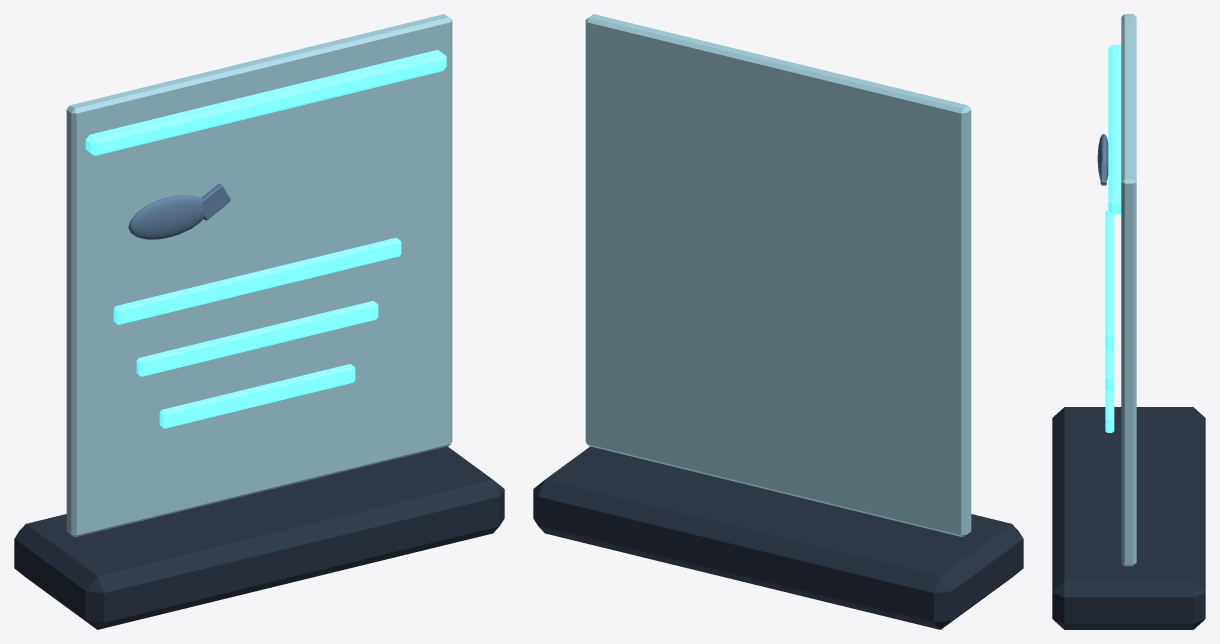
File: decor_12.glb
The picture shows the model from 3 angles, left to right: view 1: azimuth 30°, elevation 25°; view 2: azimuth 150°, elevation 25°; view 3: azimuth 270°, elevation 25°; orthographic projection. The views are drawn at different scales.
Visible parts, largest first — view 1: HoloPanel, HoloBase, HoloLine (×3), HoloBorder, WhaleBody; view 2: HoloPanel, HoloBase; view 3: HoloBase, HoloPanel, HoloBorder, HoloLine (×3), WhaleBody.
Boxes of the visible parts, x1,y1,x2,y2 form: HoloPanel: (66,14,452,537); HoloBase: (14,446,504,629); HoloLine (×3): (113,237,401,428); HoloBorder: (85,50,446,155); WhaleBody: (128,195,204,239); HoloPanel: (585,14,971,537); HoloBase: (533,446,1023,629); HoloBase: (1052,407,1205,629); HoloPanel: (1121,14,1136,566); HoloBorder: (1108,44,1121,214); HoloLine (×3): (1105,210,1114,432); WhaleBody: (1097,134,1108,180).
Bounding box in the file's own units: 0.57 × 0.6428 × 0.2.
